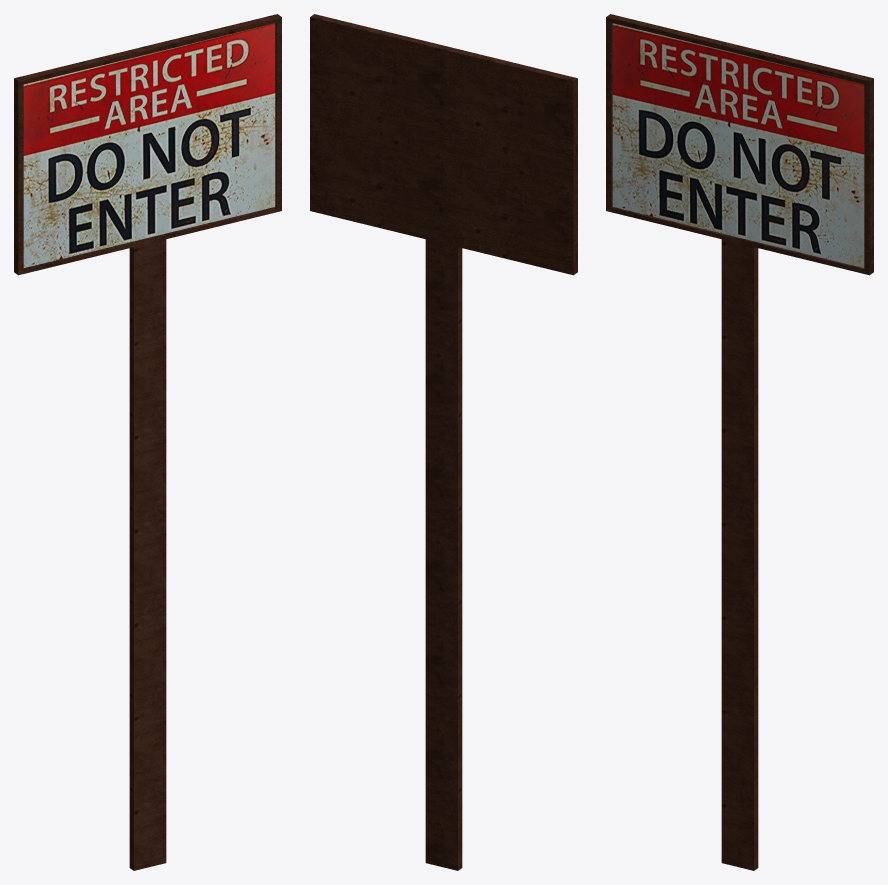
Rendered from Letrero.obj.
3 renders of one model, left to right at view 1: azimuth 30°, elevation 25°; view 2: azimuth 150°, elevation 25°; view 3: azimuth 330°, elevation 25°, orthographic.
Visible parts, largest first — view 1: objSignal; view 2: objSignal; view 3: objSignal.
Boxes of the visible parts, x1=… form: objSignal: x1=14, y1=14, x2=281, y2=870; objSignal: x1=310, y1=14, x2=577, y2=870; objSignal: x1=606, y1=14, x2=873, y2=870.
Bounding box in the file's own units: 2.09 × 6.21 × 0.0575.
2 materials, 2 textured.
